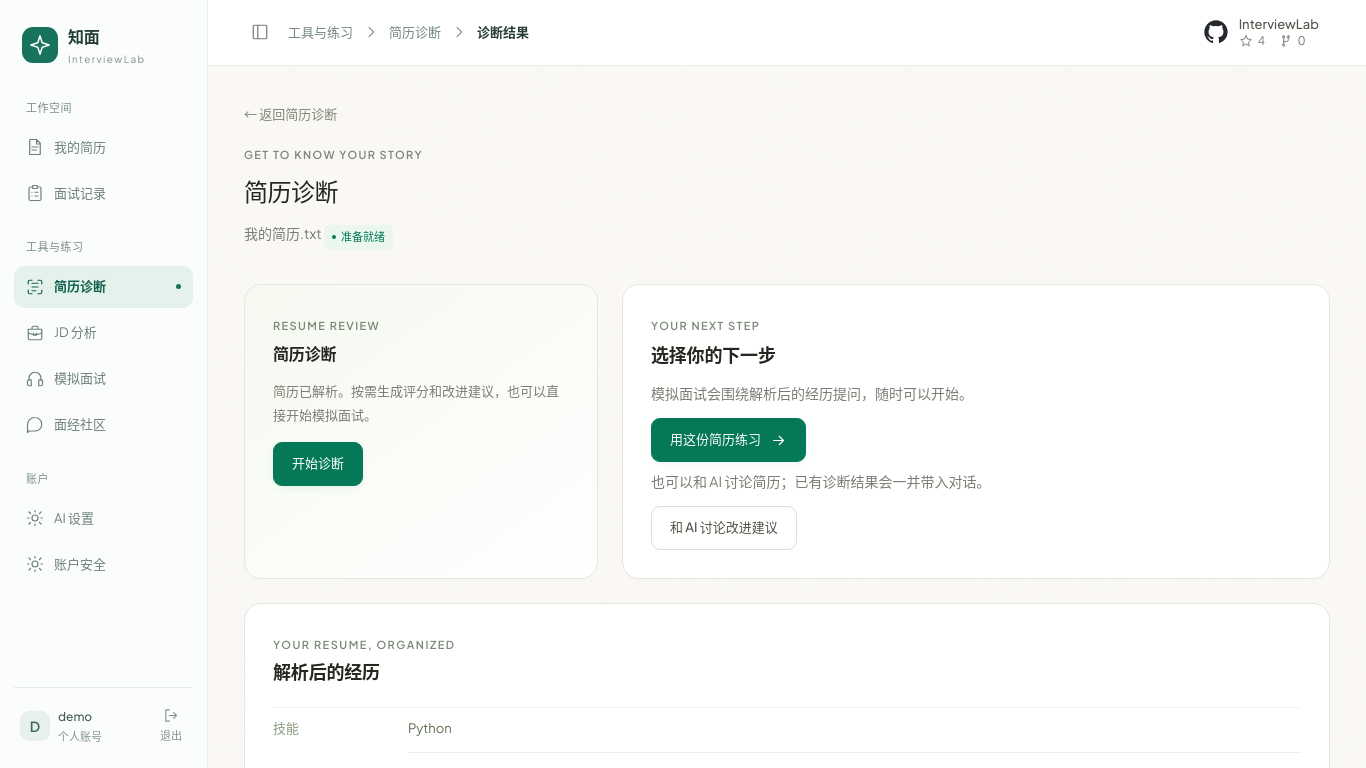
platform user flows › only requests diagnosis after an explicit click and keeps the saved result
The width and height of the screenshot is (1366, 768).
Expected: the text "简历评分" is not shown
Click the button "开始诊断": [318, 464] box [273,442,363,486]
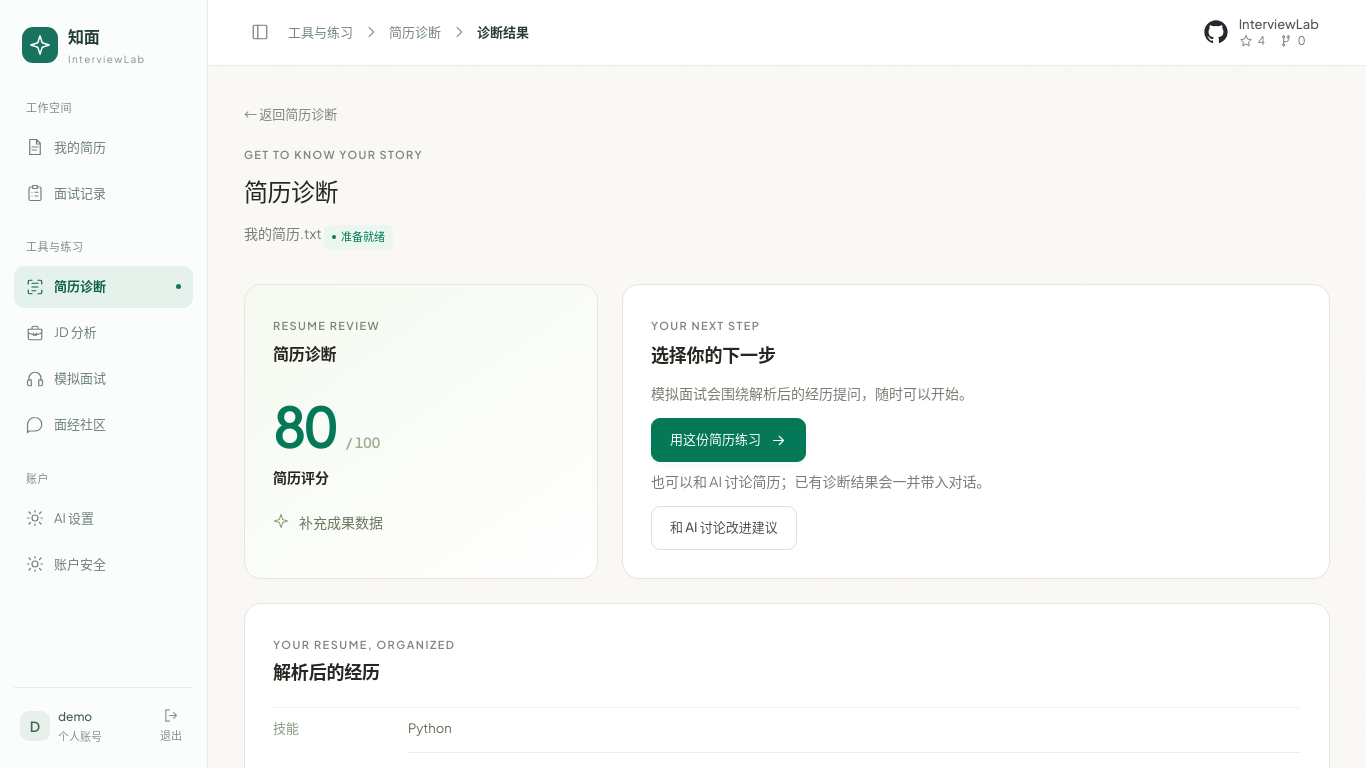
Expected: the text "补充成果数据" is shown, [299,509,383,535]
